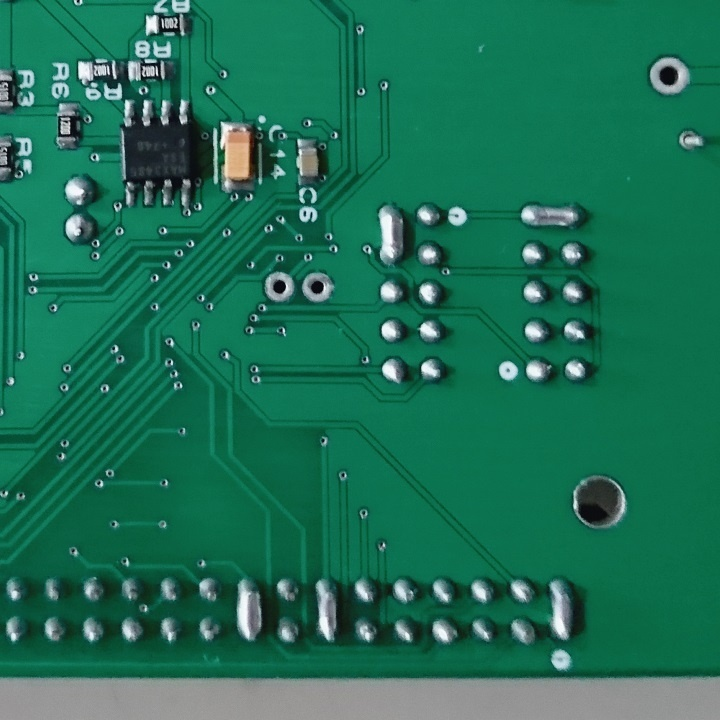F: (646, 52, 694, 99), (299, 267, 337, 308), (260, 267, 296, 306), (676, 126, 708, 153)
P: (232, 573, 267, 647), (372, 199, 407, 269), (516, 198, 587, 232), (544, 572, 576, 644), (310, 574, 341, 648)
